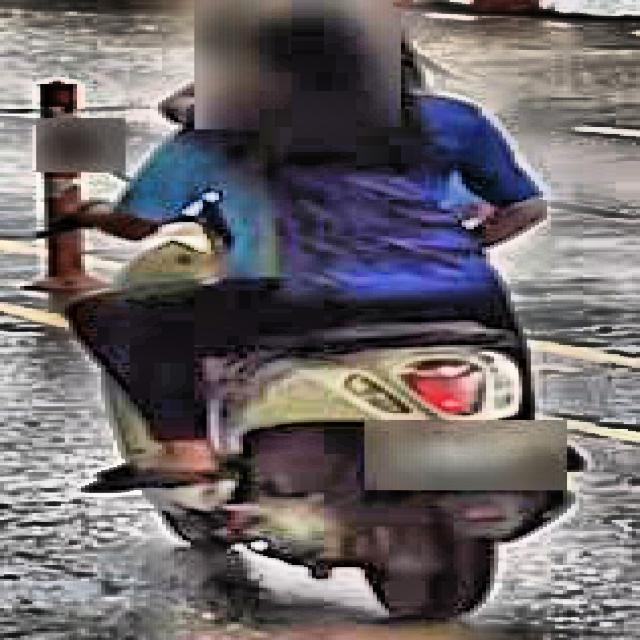motorcycle: (44, 58, 604, 624)
